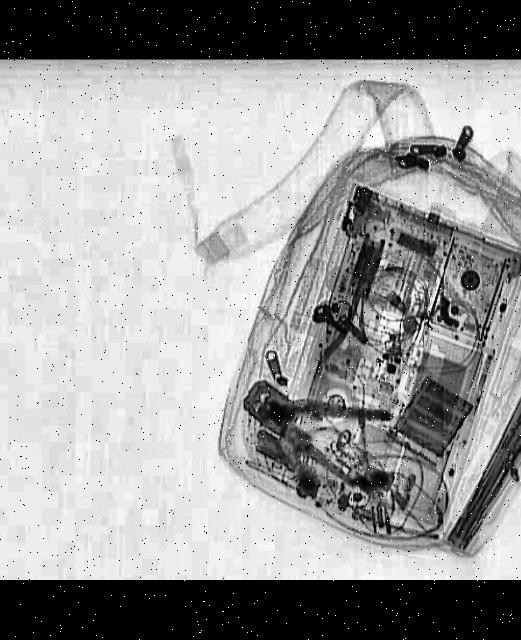Pliers: (222, 351, 394, 488)
